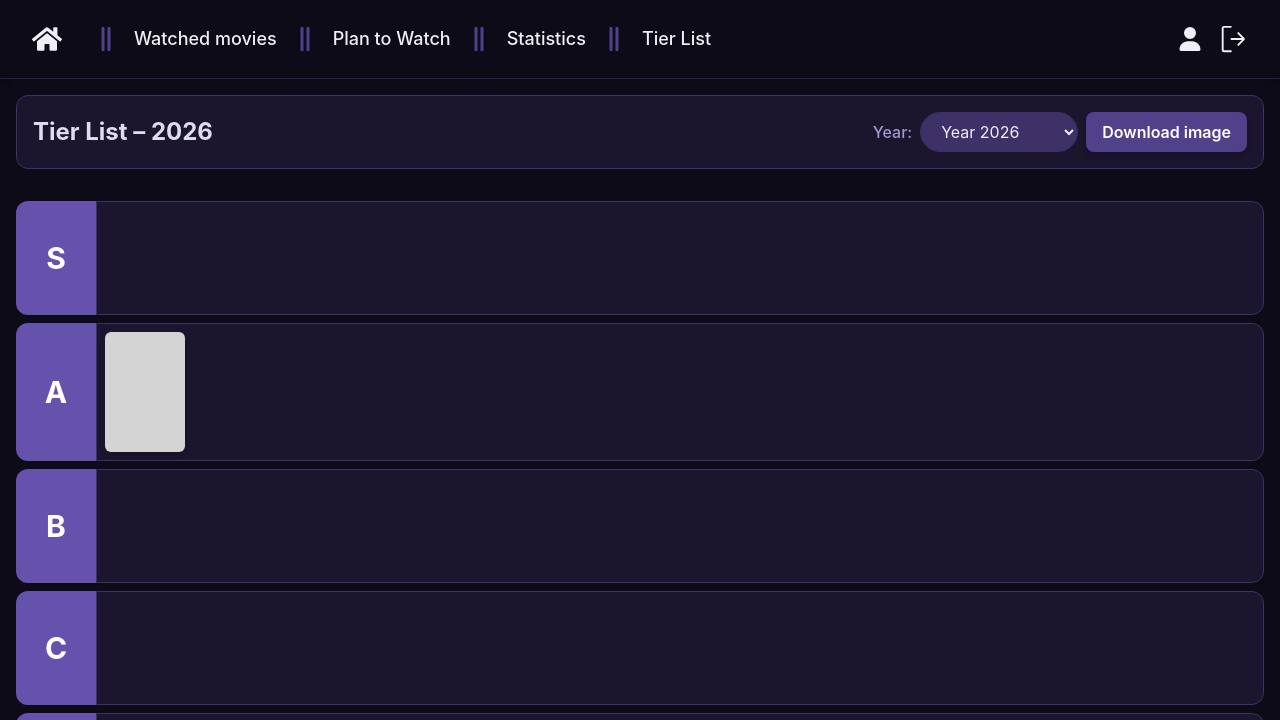
Scenario: TierList › keeps the list of the last chosen year when an earlier request answers later
Select "Year All years" in the dropdown at (999, 132), box [921,113,1077,151]
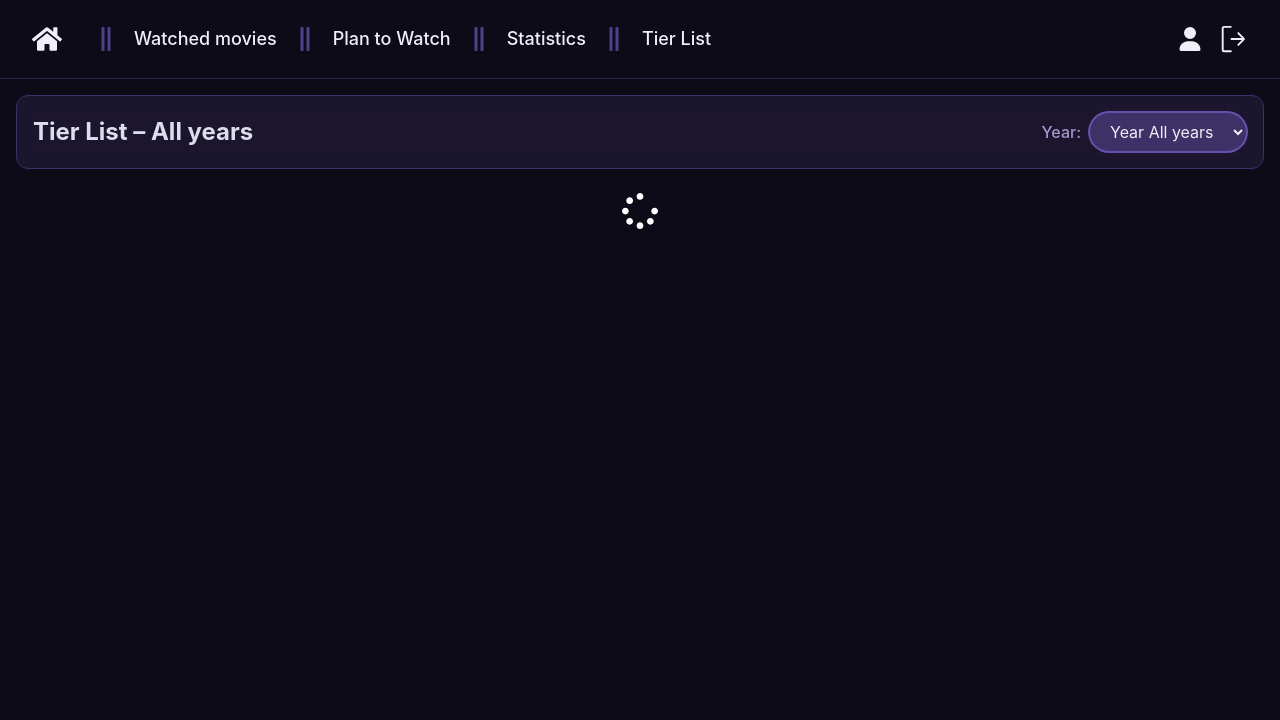
Select "Year 2020" in the dropdown at (1168, 132), box [1090,113,1246,151]
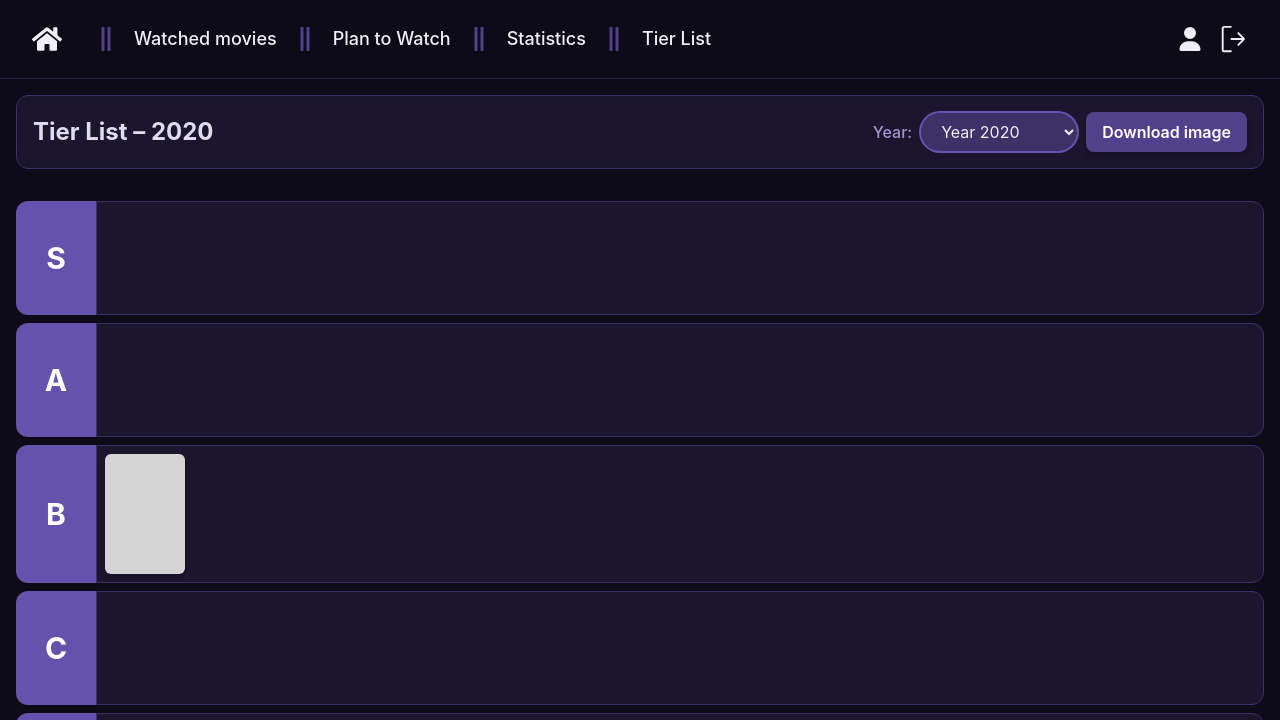
Expected: the heading "Tier List – 2020" is shown, [33,116,214,148]
